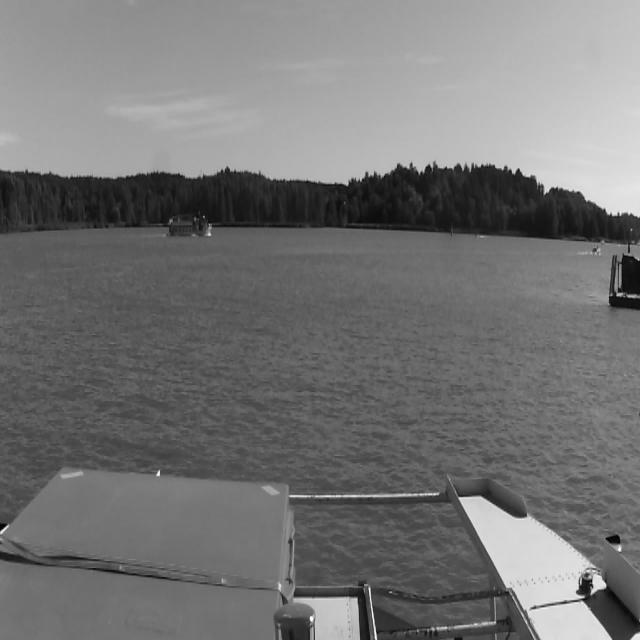buoy: (450, 224, 454, 238)
ship: (166, 212, 213, 242), (590, 241, 602, 259), (475, 231, 481, 240)
